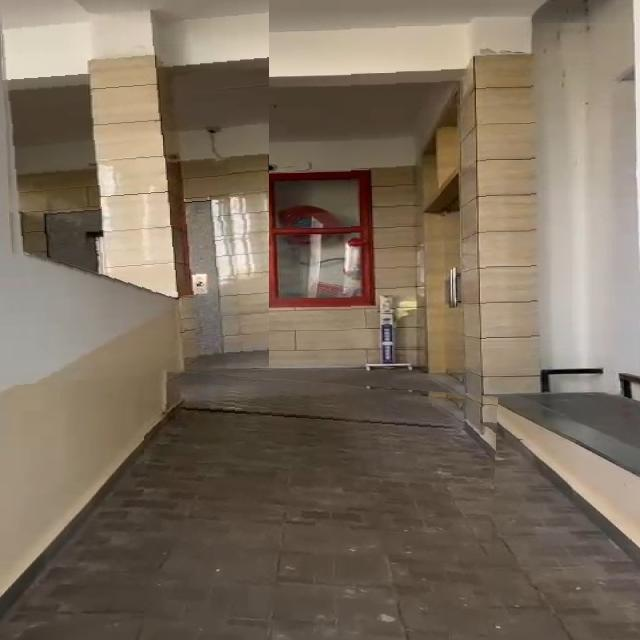floor: (144, 368, 498, 640)
wall: (0, 0, 269, 385), (328, 23, 640, 350)
